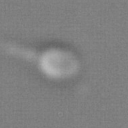normal: (1, 36, 39, 71)
